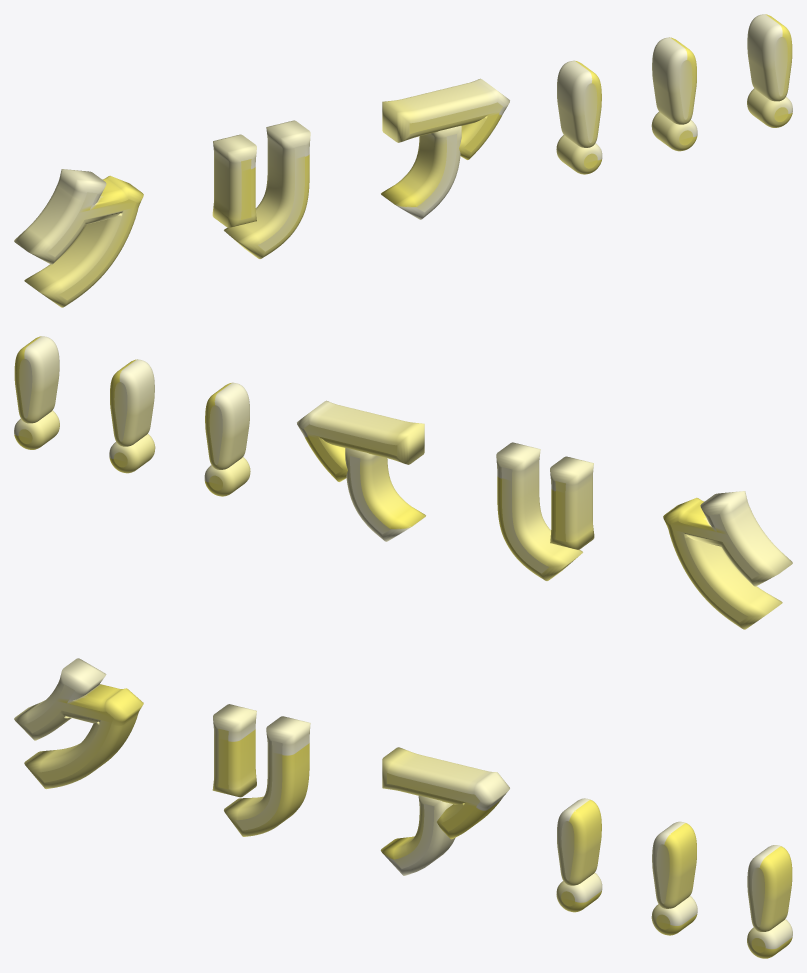
The model's file is gamecleartext.obj.
3 renders of one model, top to bottom at view 1: azimuth 30°, elevation 25°; view 2: azimuth 150°, elevation 25°; view 3: azimuth 330°, elevation 25°, orthographic.
Parts seen in each view (by area): view 1: テキスト; view 2: テキスト; view 3: テキスト.
Boxes of the visible parts, left/top/right/bottom form: テキスト: left=14, top=14, right=792, bottom=307; テキスト: left=14, top=336, right=792, bottom=629; テキスト: left=14, top=658, right=792, bottom=958.
Bounding box in the file's own units: 6.58 × 1.02 × 0.34.
Materials: 1 (1 with a texture image).
